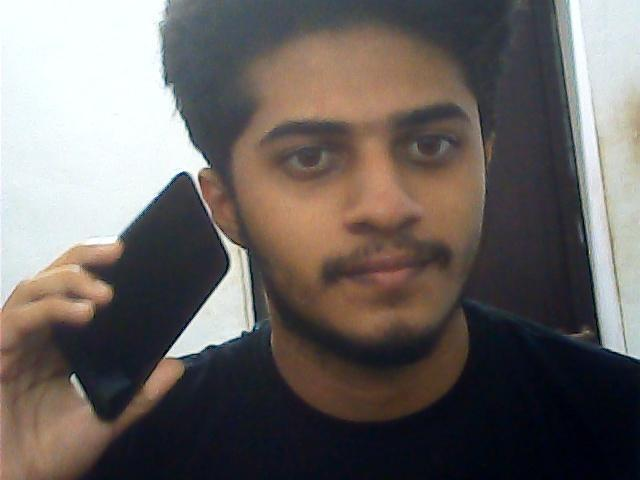PhoneUse: (34, 166, 238, 414)
SafeDriving: (386, 114, 472, 176), (266, 130, 356, 183)
